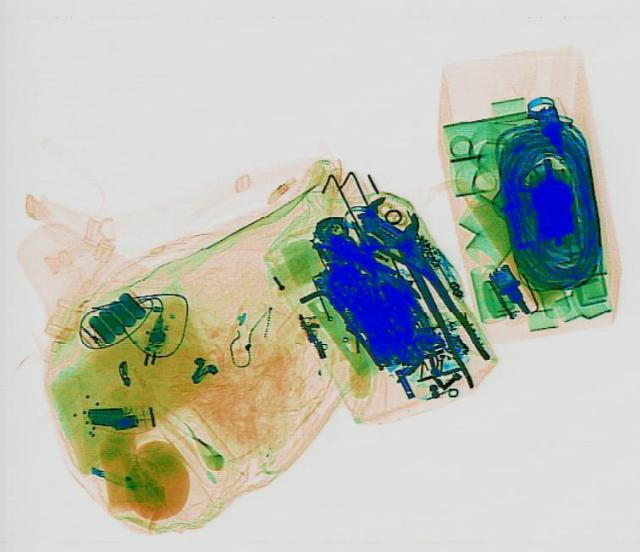Pliers: (338, 222, 432, 300)
Wrench: (350, 188, 510, 388)
